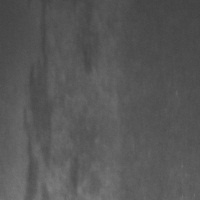inclusion: (21, 1, 56, 199), (61, 120, 105, 199), (72, 1, 102, 78)
